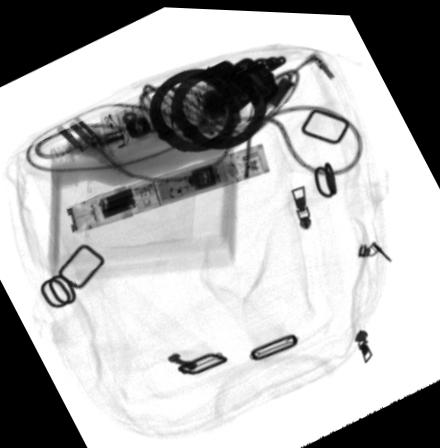Baton: (66, 140, 273, 236)
HandCuffs: (147, 51, 298, 151)
